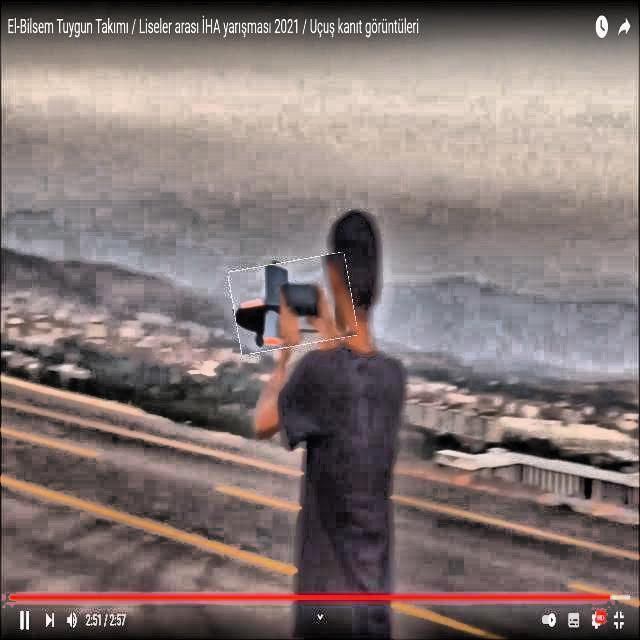iha: (214, 283, 345, 328)
